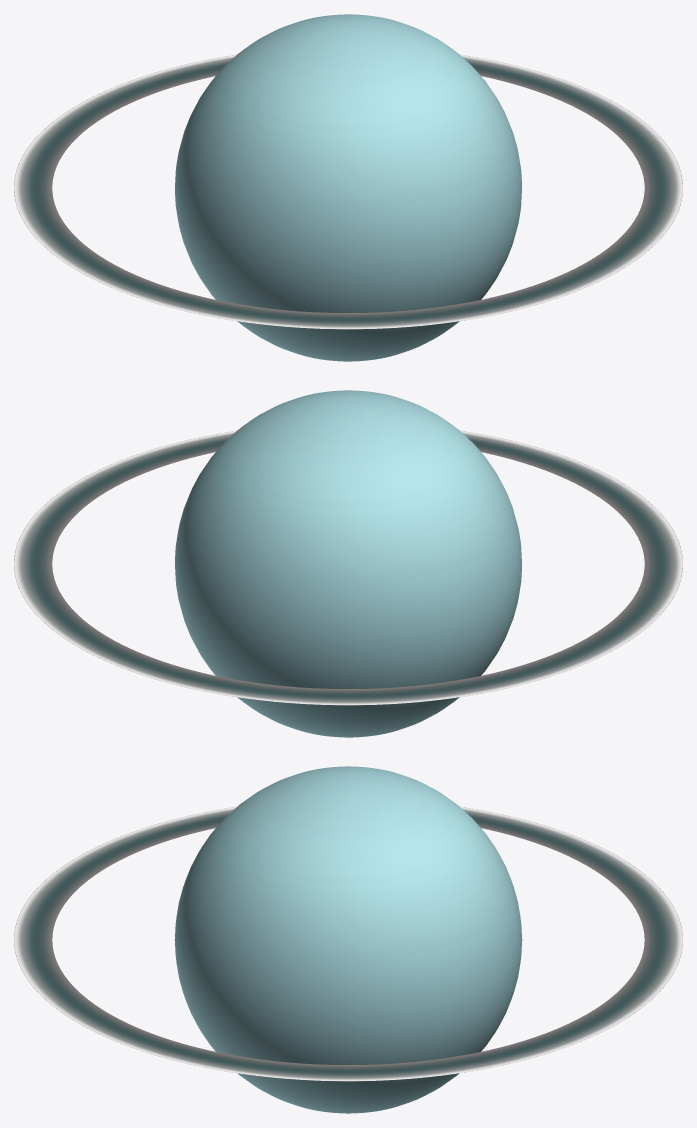
Rendered from uranus.obj.
The picture shows the model from 3 angles, top to bottom: view 1: azimuth 30°, elevation 25°; view 2: azimuth 150°, elevation 25°; view 3: azimuth 270°, elevation 25°; orthographic projection.
Visible parts, largest first — view 1: Uranus; view 2: Uranus; view 3: Uranus.
Boxes of the visible parts, left/top/right/bottom form: Uranus: left=14, top=14, right=682, bottom=361; Uranus: left=14, top=390, right=682, bottom=737; Uranus: left=14, top=766, right=682, bottom=1113.
Size of the model in its own units: 39.07 by 20.29 by 39.07.
Materials: 2 (2 with a texture image).
